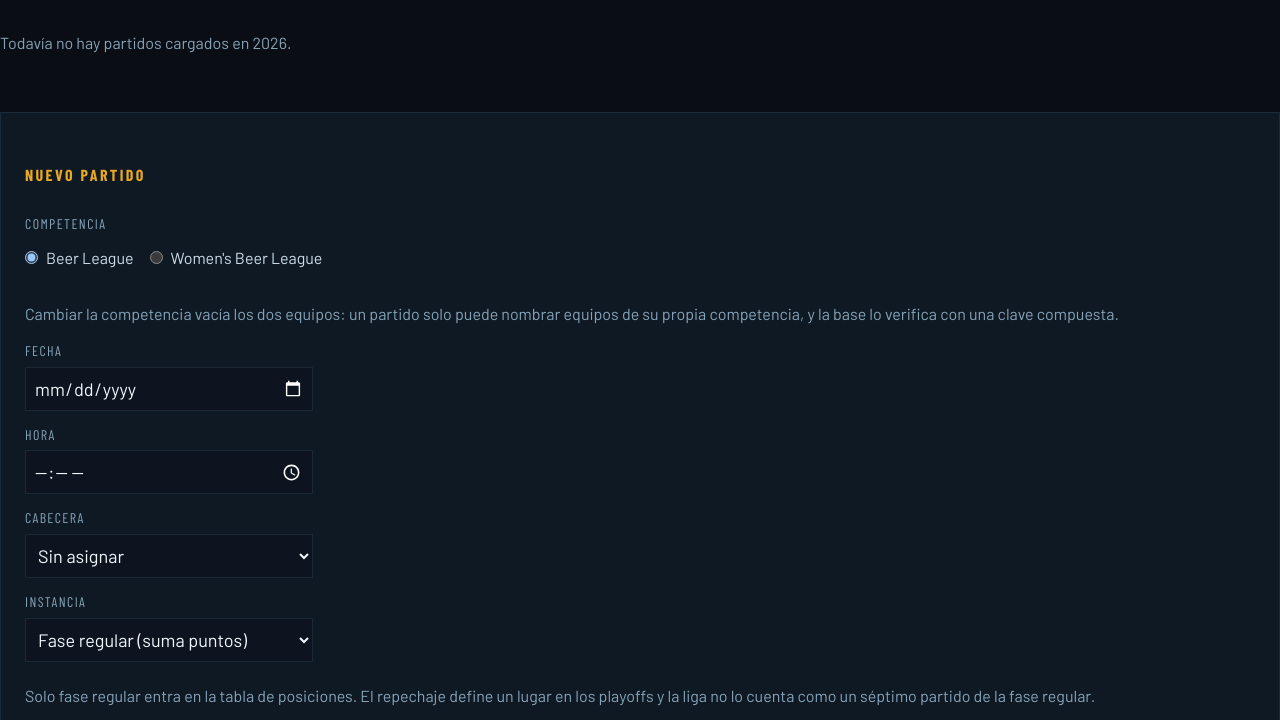
FixtureScreen › refuses a team playing itself
(page scrolled)
Type "2026-05-23" into the date field labelled "Fecha".
click(169, 389); type("2026-05-23")  # box [25,367,313,411]
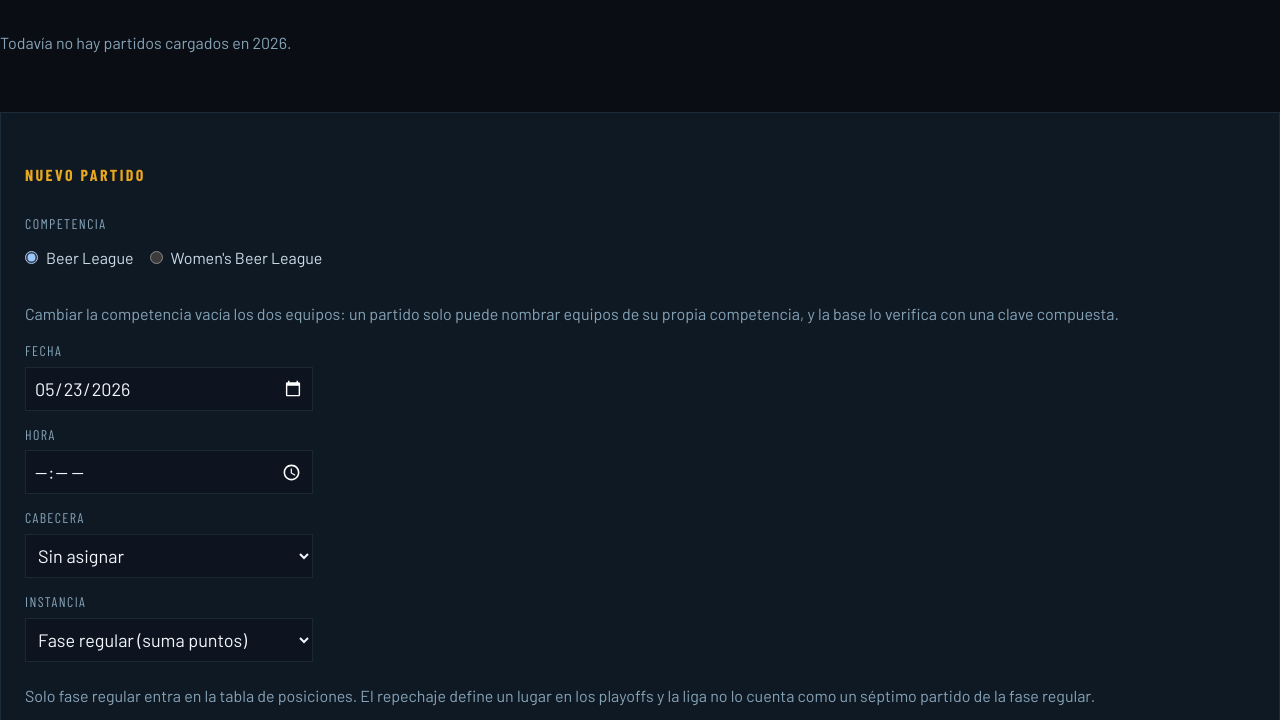
Type "22:30" into the time field labelled "Hora".
click(169, 472); type("22:30")  # box [25,450,313,494]
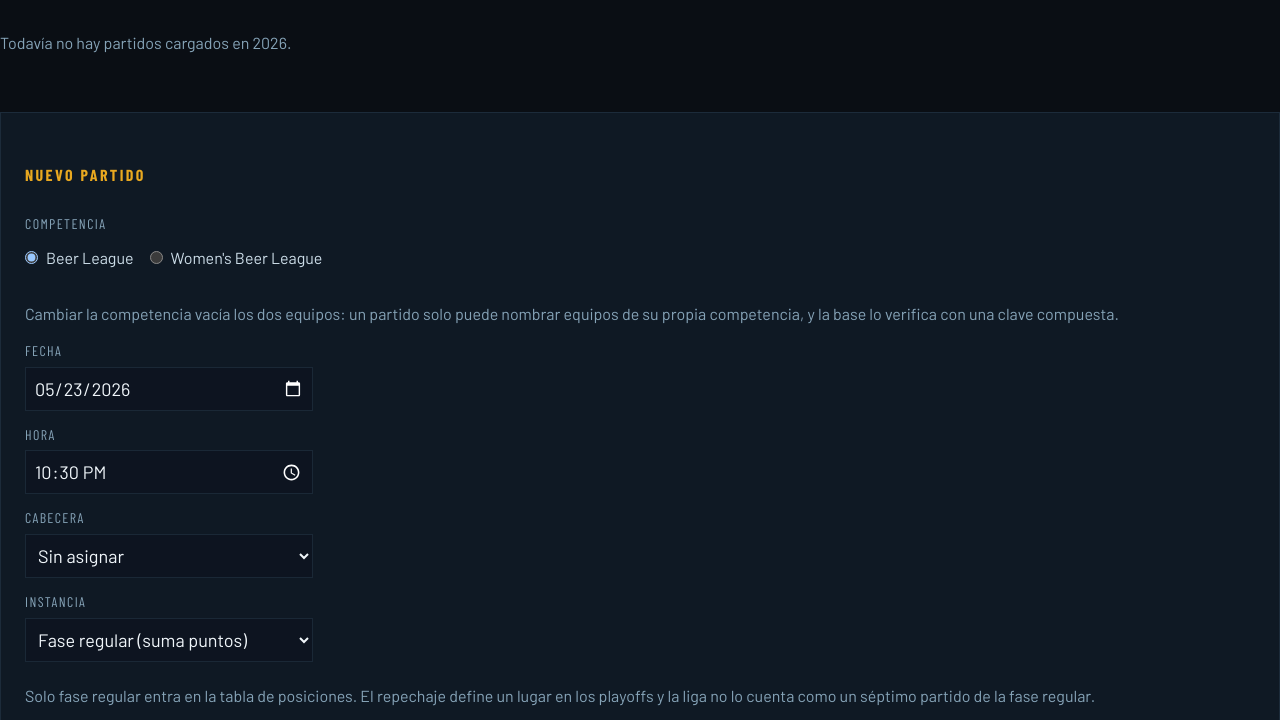
Select "Bahía" in the dropdown labelled "Cabecera" at (169, 556), box [25,534,313,578]
(page scrolled)
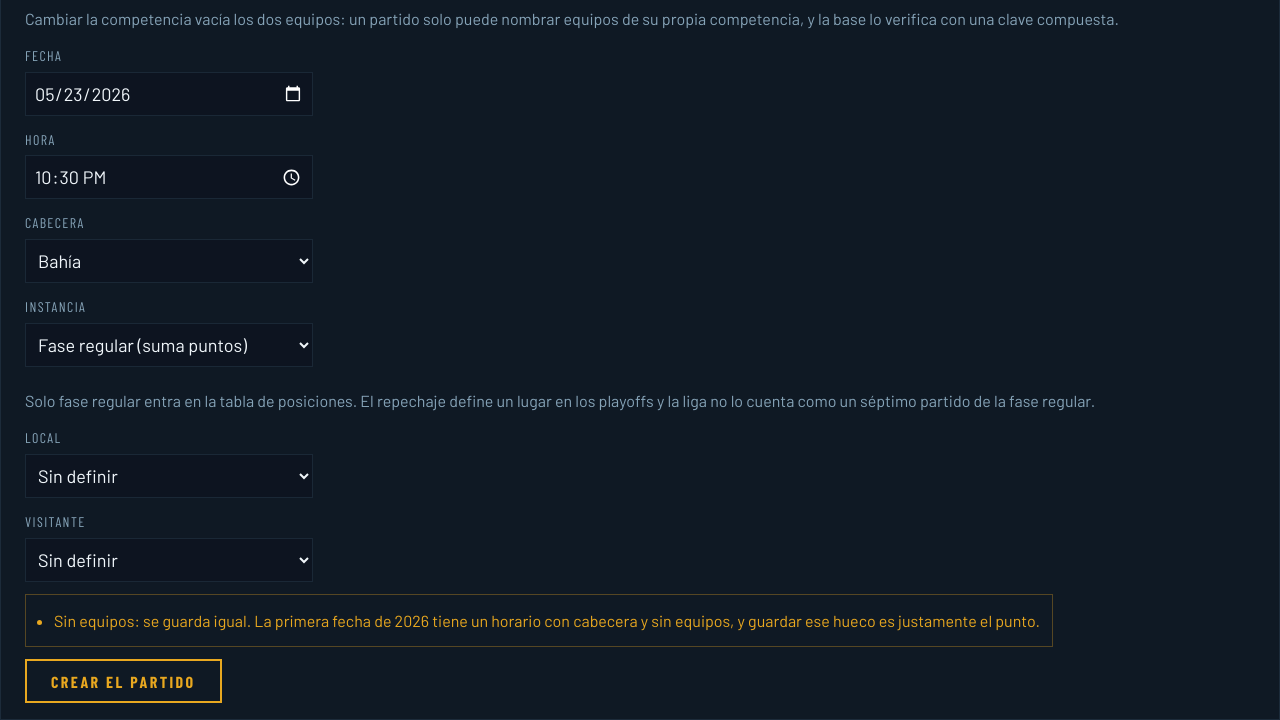
Select "Rock Choppers" in the dropdown labelled "Local" at (169, 476), box [25,454,313,498]
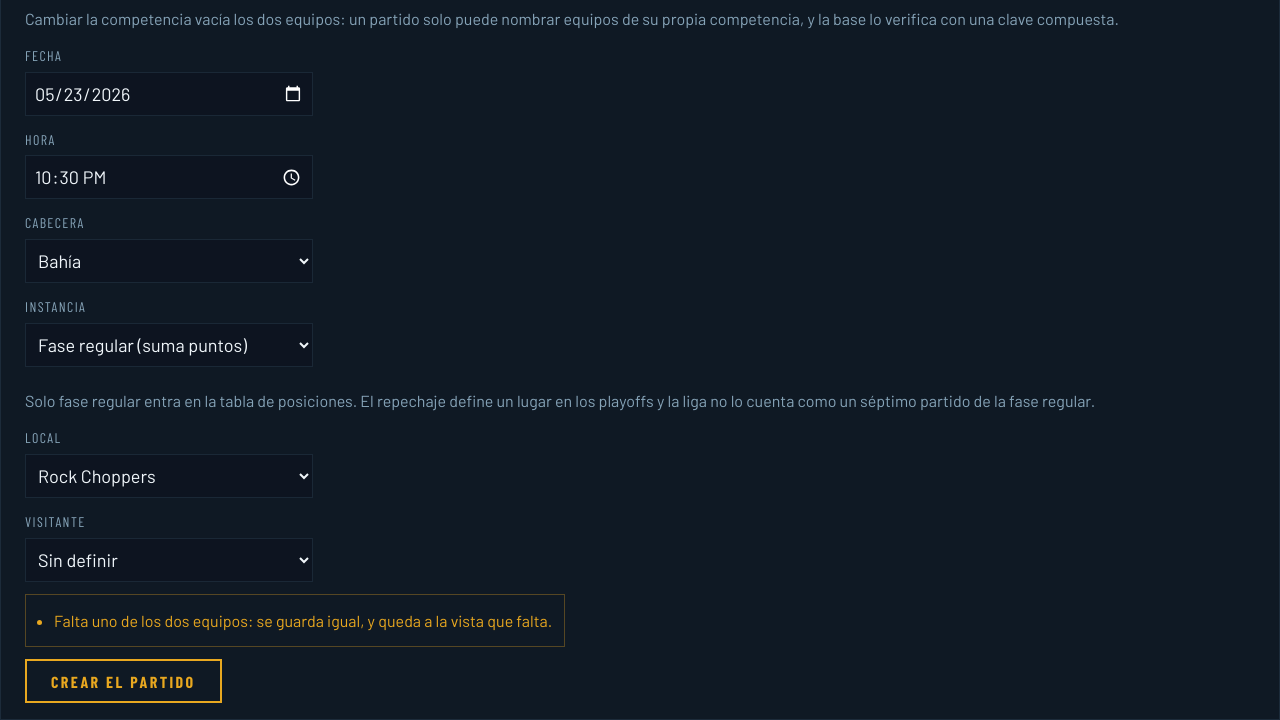
Select "Rock Choppers" in the dropdown labelled "Visitante" at (169, 560), box [25,538,313,582]
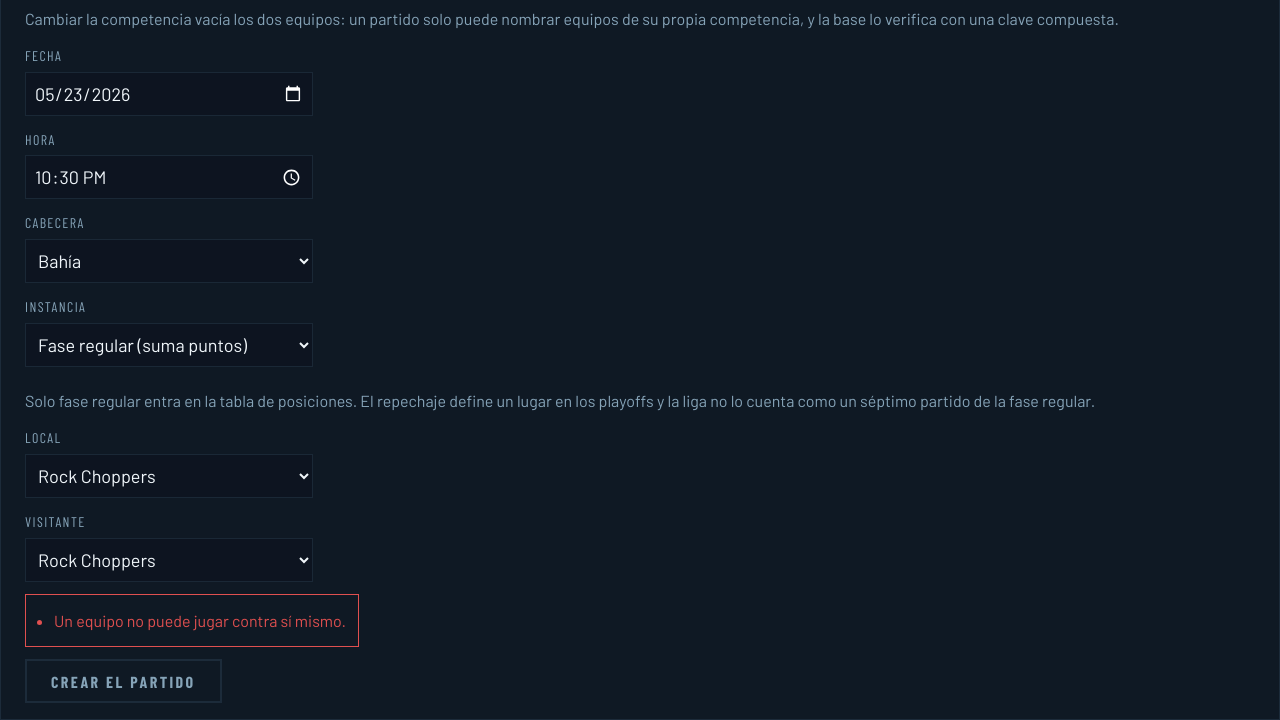
Expected: the list item "Un equipo no puede jugar contra sí mismo." is shown, [54,607,346,634]
Expected: the button "Crear el partido" is disabled, [25,659,222,703]
